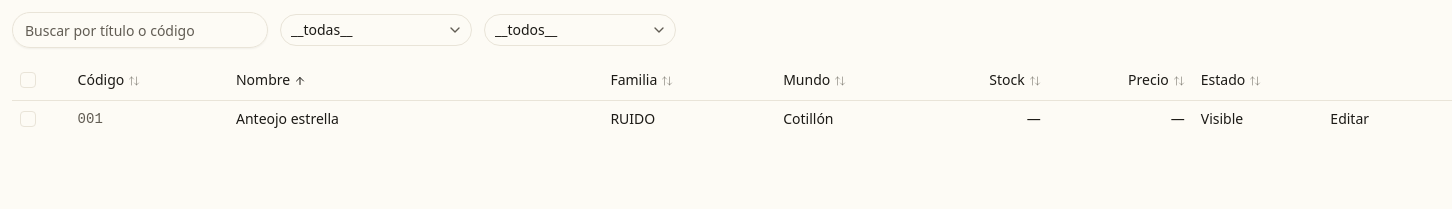
PublicadoTab — lote: eliminar › pide confirmación antes de borrar
Expected: the row "001 Anteojo estrella RUIDO Cotillón — — Visible Editar" is shown, [12,100,1451,136]
Click the checkbox named "Seleccionar Anteojo estrella": (28,118) [20,110,36,126]
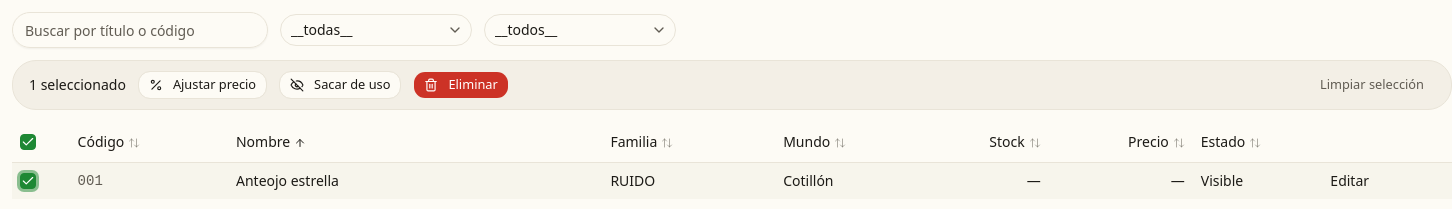
Click the button "Eliminar": (461,85) [414,71,509,99]
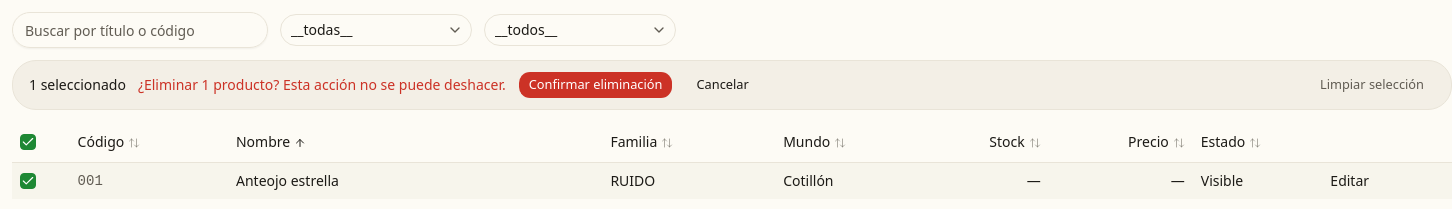
Now the text "¿Eliminar 1 producto? Esta acción no se puede deshacer." is shown, box [138,75,506,95]
